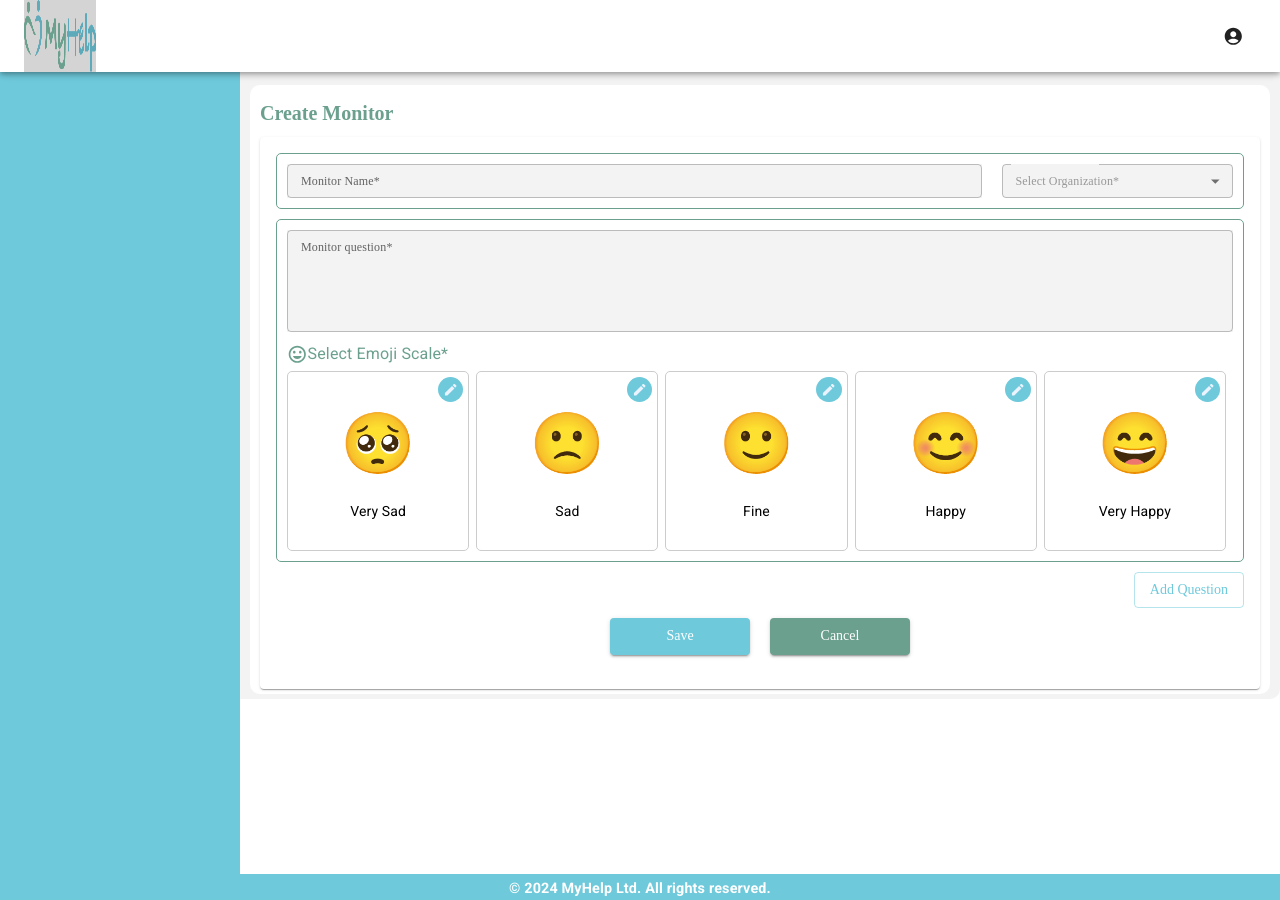
it: Admin create monitor › should render emoji selection
The width and height of the screenshot is (1280, 900).
Click the button with test id "edit-emoji-1" at coordinates (640, 390), box 627,377 -> 652,402
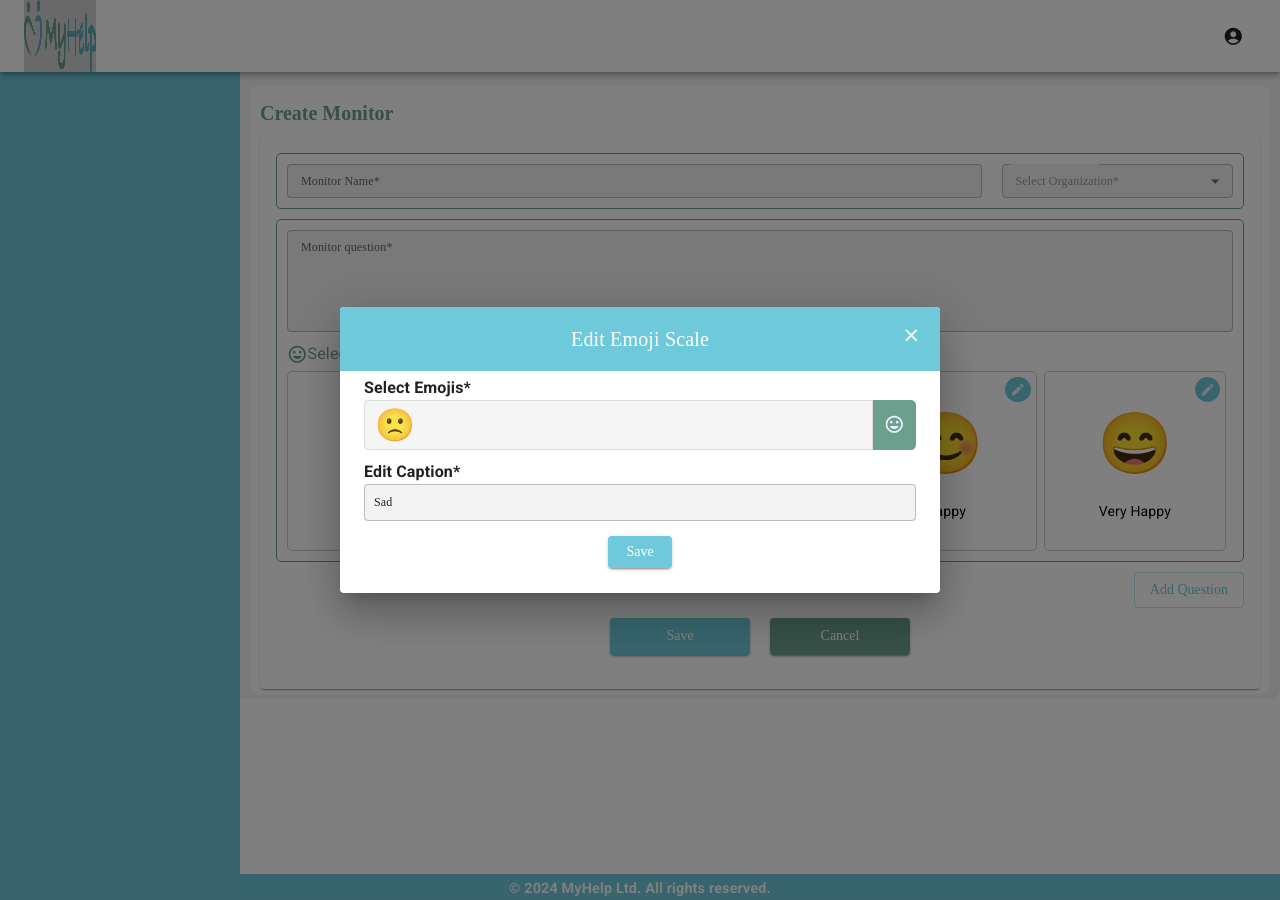
Result: the button with test id "save-emoji-button-1" is shown at 608,536 -> 672,568
Replace the text in the field with test id "caption-1" with "emoji text" at coordinates (640, 502), box 364,484 -> 916,521
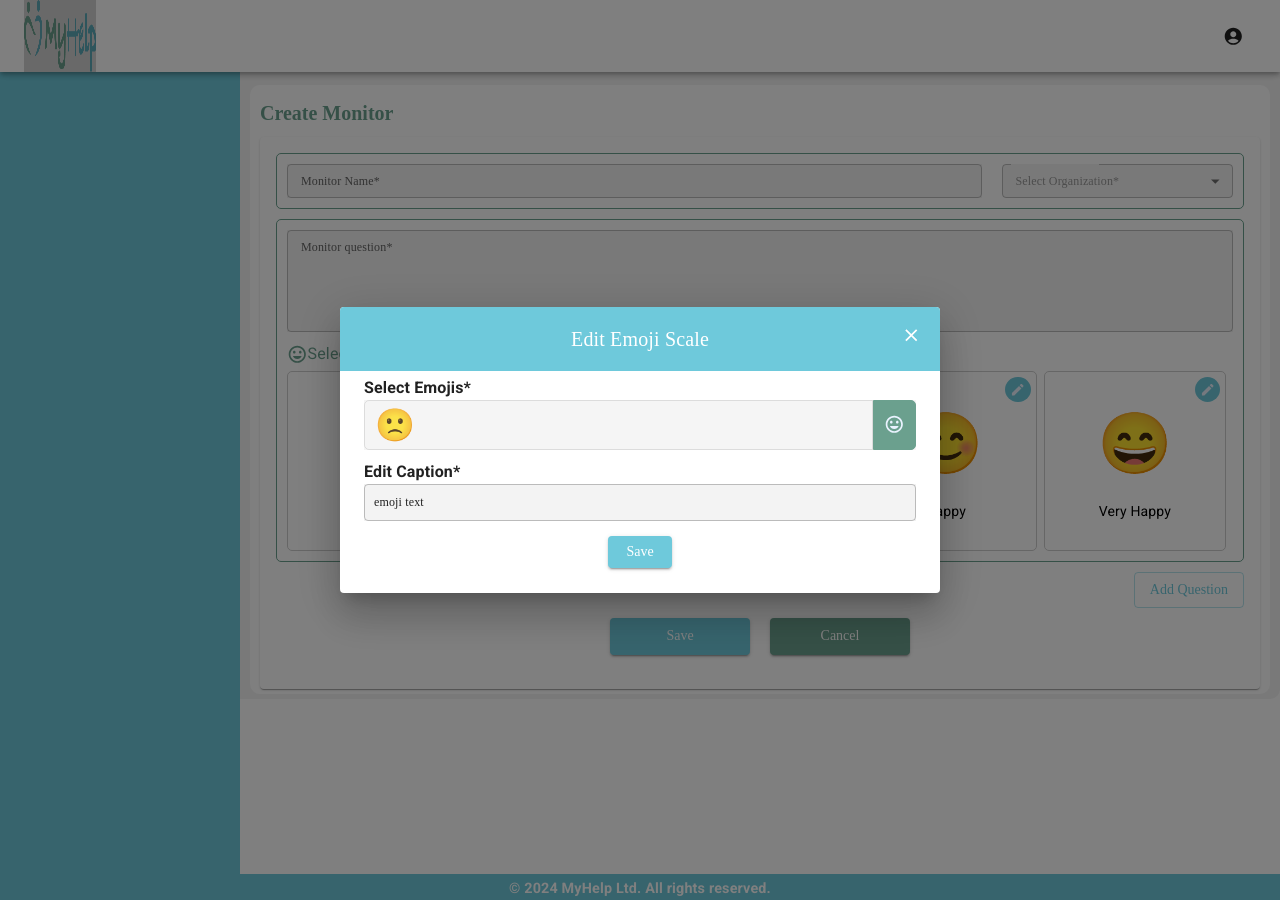
Click the button with test id "save-emoji-button-1" at coordinates (640, 552), box 608,536 -> 672,568
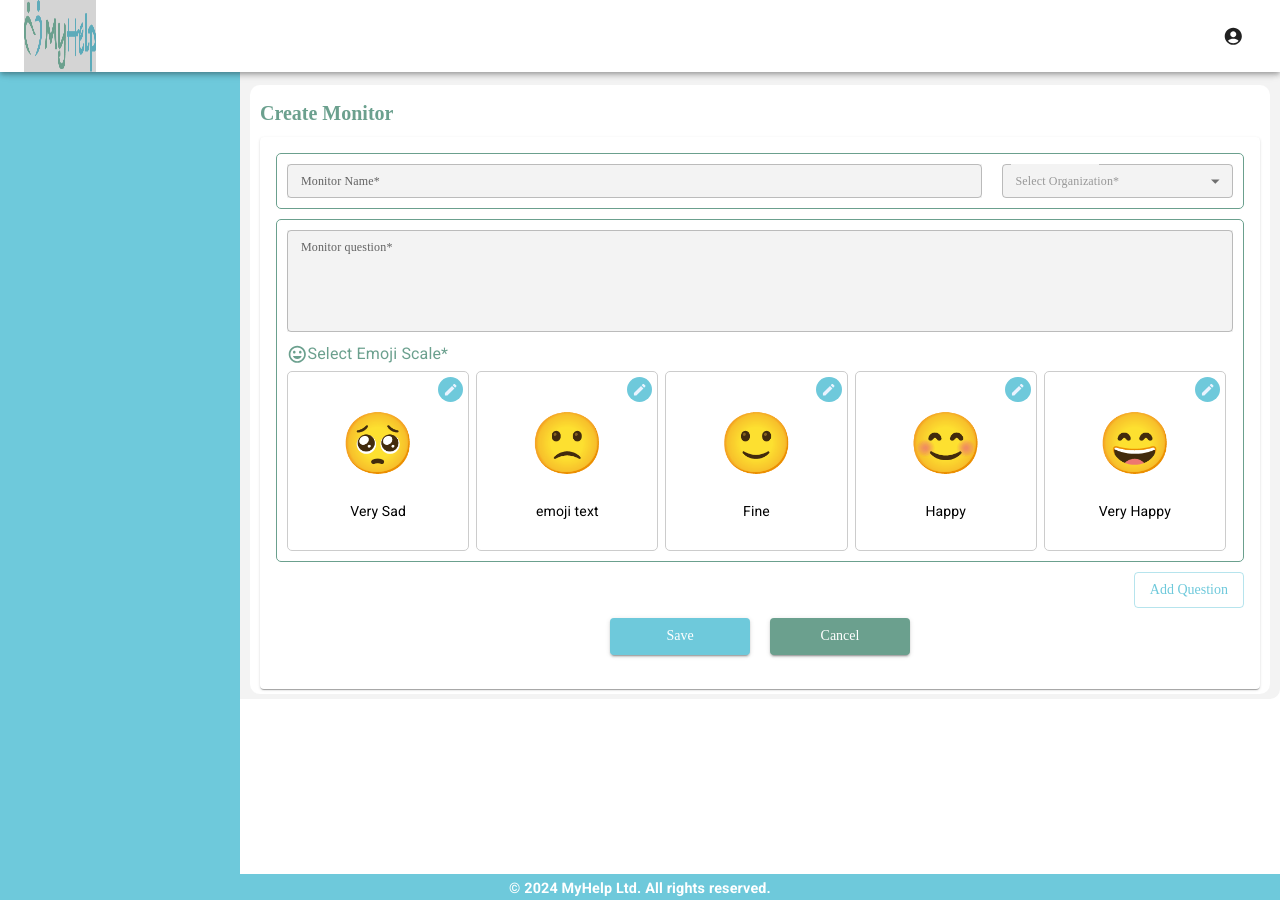
Result: the text "emoji text" is shown at 536,503 -> 599,519
